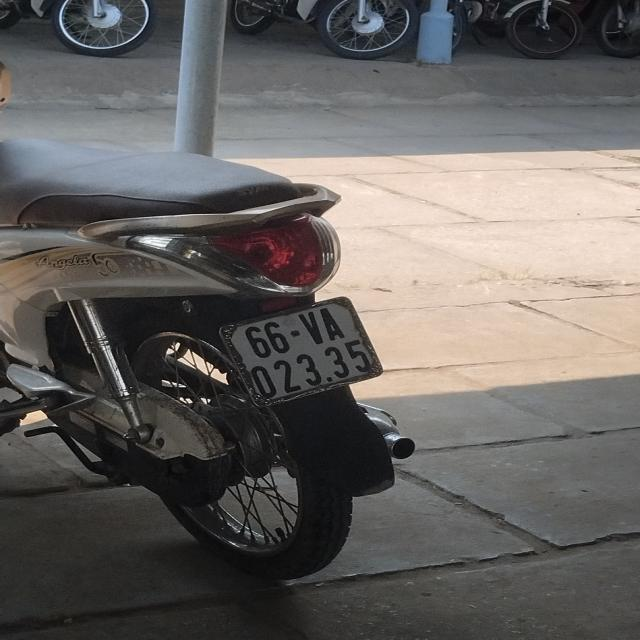0: (253, 365, 277, 399)
2: (275, 359, 301, 394)
3: (294, 351, 322, 387), (324, 345, 351, 380)
5: (345, 338, 372, 372)
6: (262, 321, 290, 354), (245, 326, 271, 360)
A: (321, 307, 344, 340)
V: (298, 311, 324, 344)
